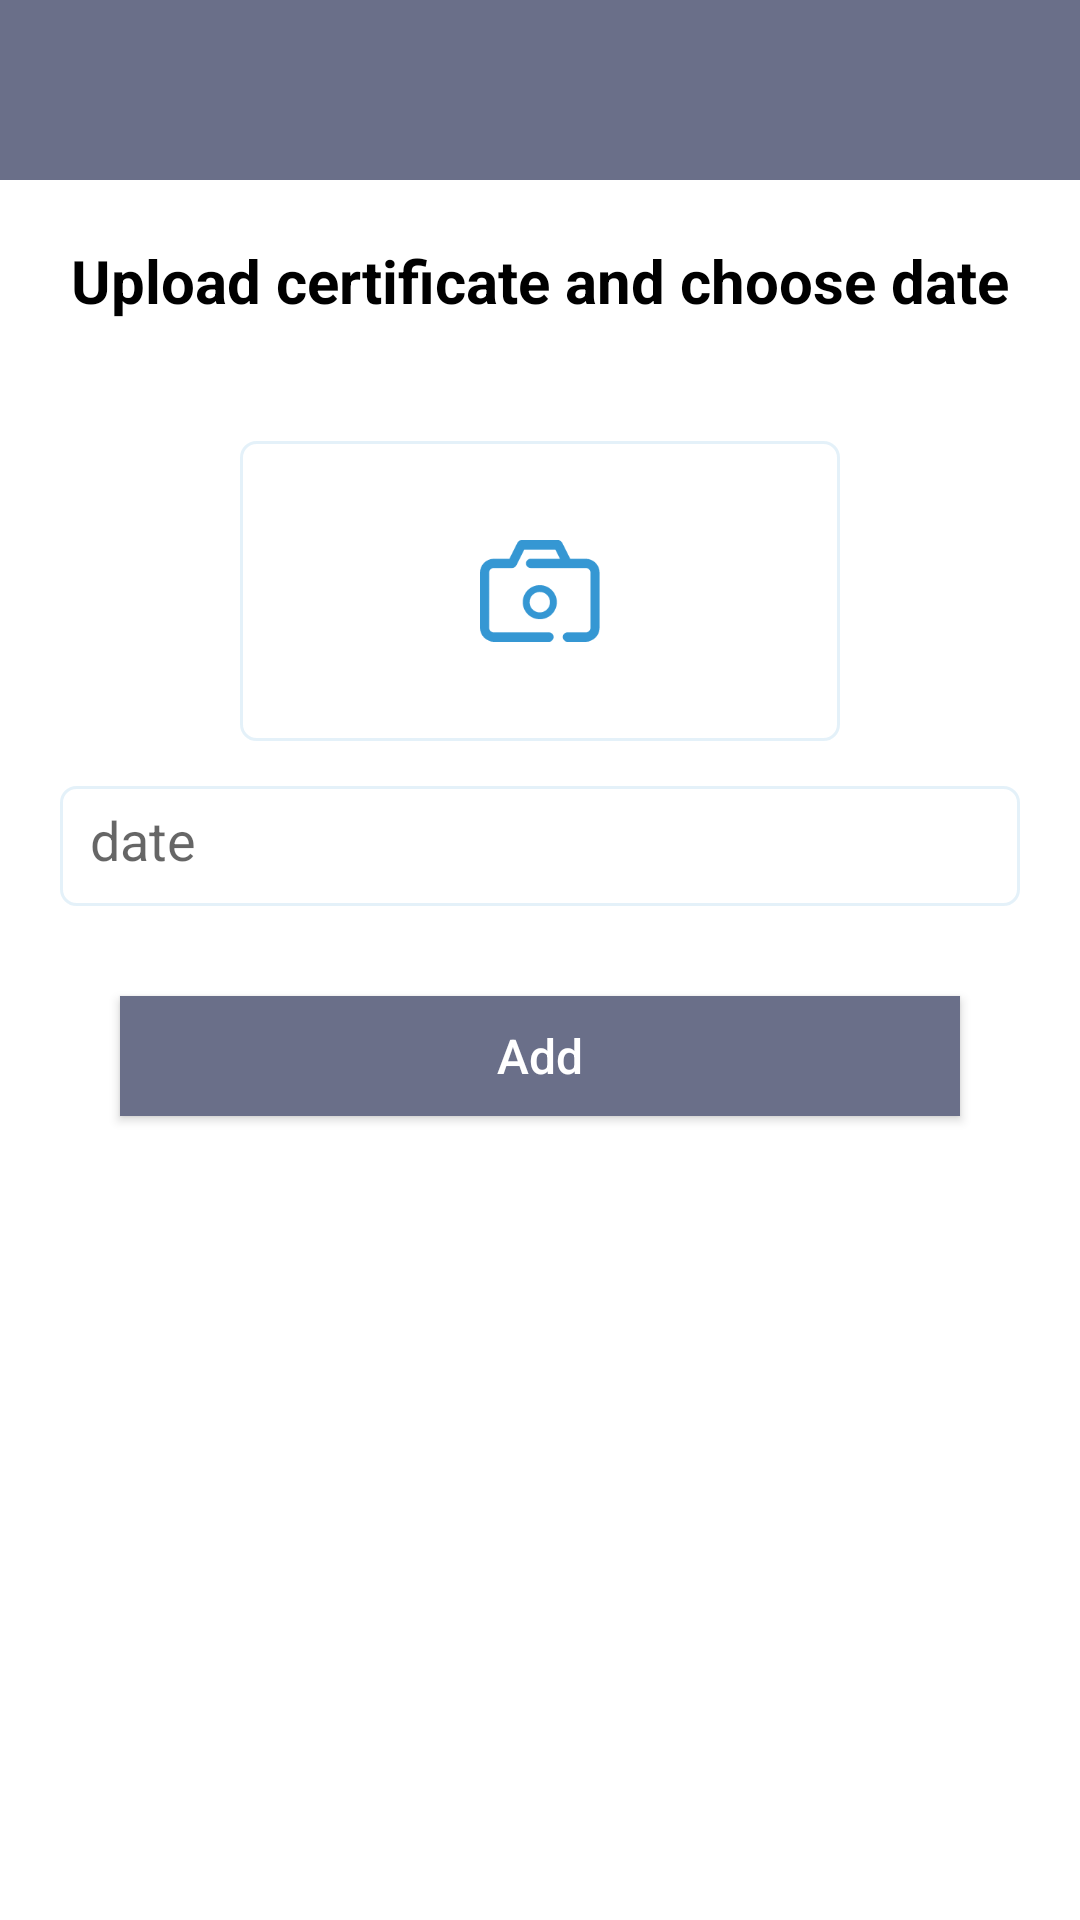

Locate icon controls on the screen. Image size 1080 x 1920, boxes as bbox=[x1, y1, x2, y2].
camera add: bbox=[480, 540, 600, 642]
